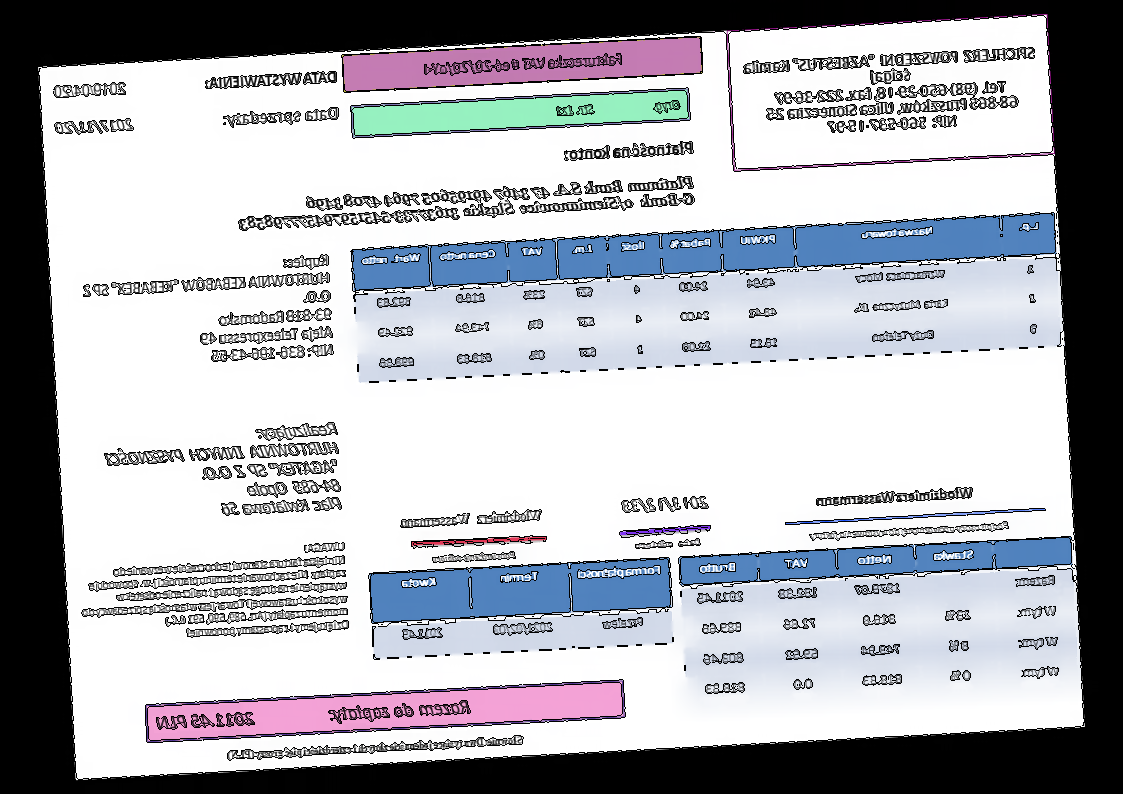Table: (349, 210, 1064, 385), (677, 534, 1081, 710), (366, 555, 676, 661)
TextBox: (79, 251, 337, 373), (232, 172, 698, 236), (74, 539, 352, 646), (739, 43, 1042, 141), (100, 417, 346, 528), (153, 694, 475, 736), (223, 731, 527, 764), (422, 48, 628, 79), (807, 517, 1012, 544), (812, 481, 977, 511), (202, 64, 338, 94), (396, 505, 547, 531), (562, 137, 695, 166), (553, 95, 682, 120), (220, 104, 340, 130), (619, 491, 712, 516), (53, 114, 137, 138), (50, 77, 129, 100), (430, 548, 519, 566), (631, 533, 706, 553)
